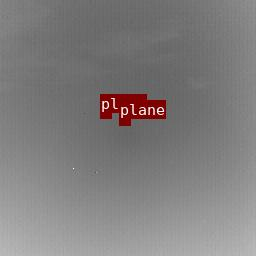plane: (119, 119, 130, 125), (100, 113, 111, 118)
